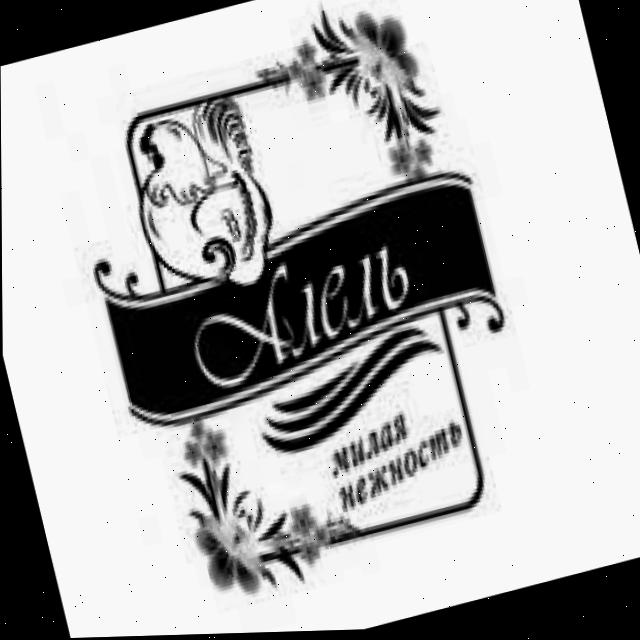alel: (63, 38, 518, 599)
